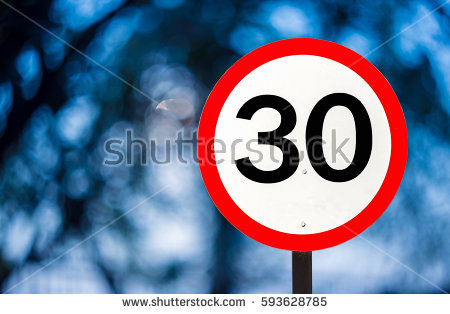Speed_limit_30km: (199, 36, 407, 251)
